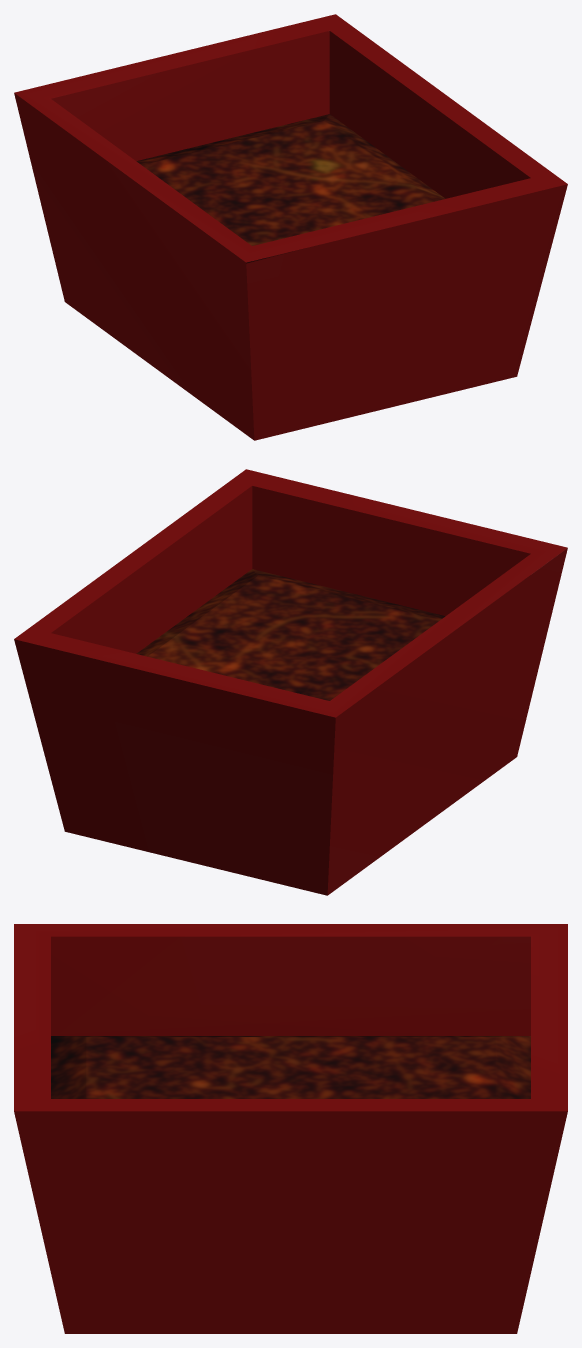
The model's file is Pot.glb.
3 renders of one model, top to bottom at view 1: azimuth 30°, elevation 25°; view 2: azimuth 150°, elevation 25°; view 3: azimuth 270°, elevation 25°, orthographic. The views are drawn at different scales.
Parts seen in each view (by area): view 1: Cube; view 2: Cube; view 3: Cube.
Part boxes in pixels (x1,y1,x2,y2): Cube: (14, 14, 567, 440); Cube: (14, 469, 567, 895); Cube: (14, 924, 567, 1333).
Bounding box in the file's own units: 0.9799 × 0.5846 × 1.22.
Materials: 1 (1 with a texture image).
